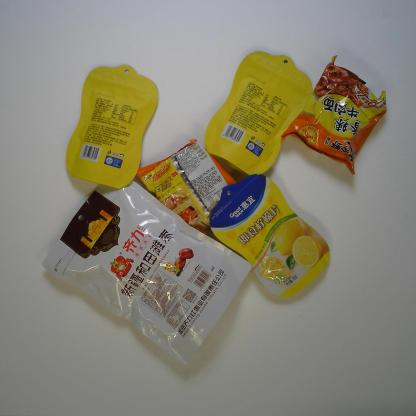Dried Food: (44, 178, 250, 368)
Dried Fruit: (207, 173, 332, 302), (204, 48, 314, 176), (63, 62, 160, 190)
Instant Noodles: (280, 55, 387, 178), (135, 138, 239, 240)
